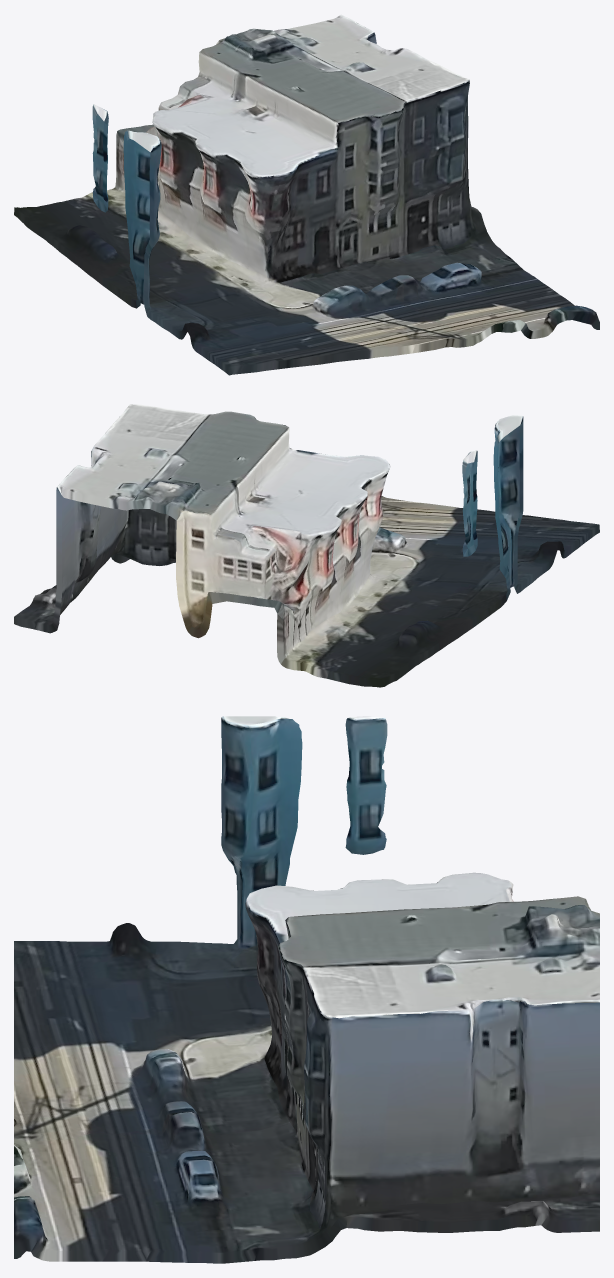
Rendered from z20-167734-405198-h0-yup-uvflip-v3-world.glb.
3 renders of one model, top to bottom at view 1: azimuth 30°, elevation 25°; view 2: azimuth 150°, elevation 25°; view 3: azimuth 270°, elevation 25°, orthographic. The views are drawn at different scales.
Size of the model in its own units: 30.2 by 17.2 by 30.32.
Materials: 1 (1 with a texture image).
